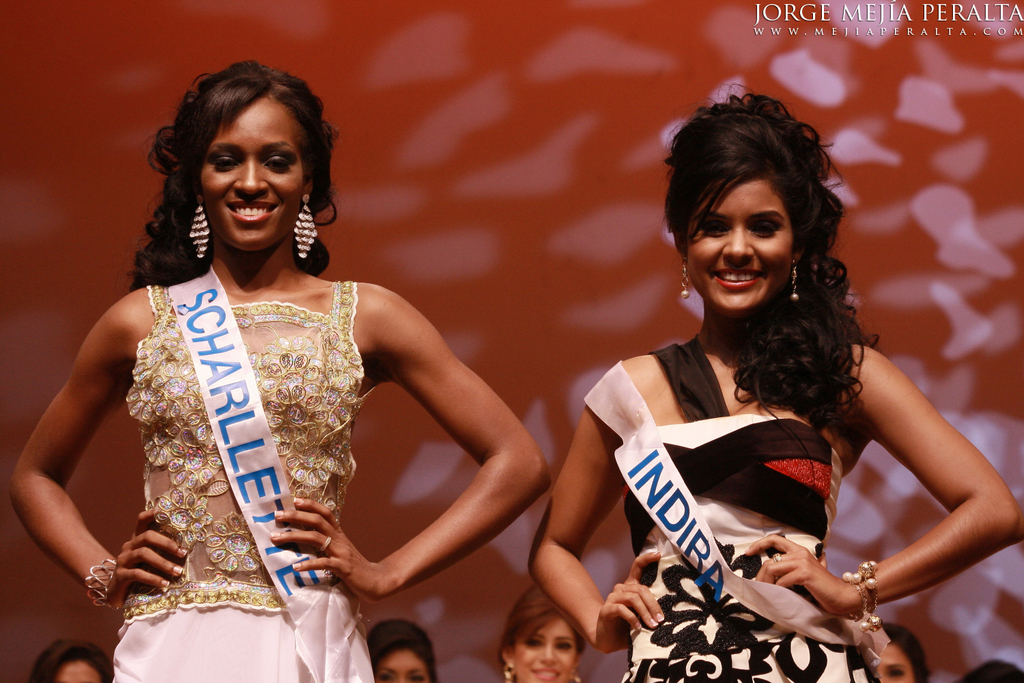Human-face: (189, 90, 311, 243), (689, 176, 795, 313), (515, 603, 575, 682), (868, 635, 916, 682), (369, 641, 423, 682), (50, 653, 99, 682)
